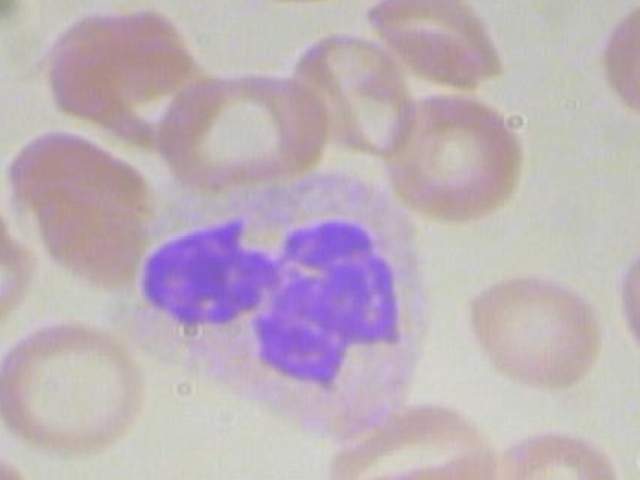RBC: (0, 307, 156, 463), (144, 67, 335, 194), (461, 246, 609, 405), (371, 84, 528, 233), (357, 0, 521, 93), (326, 394, 498, 480), (479, 417, 629, 480), (598, 0, 640, 130), (0, 211, 36, 335), (616, 216, 640, 375), (227, 0, 392, 10)
WBC: (112, 175, 460, 446)
